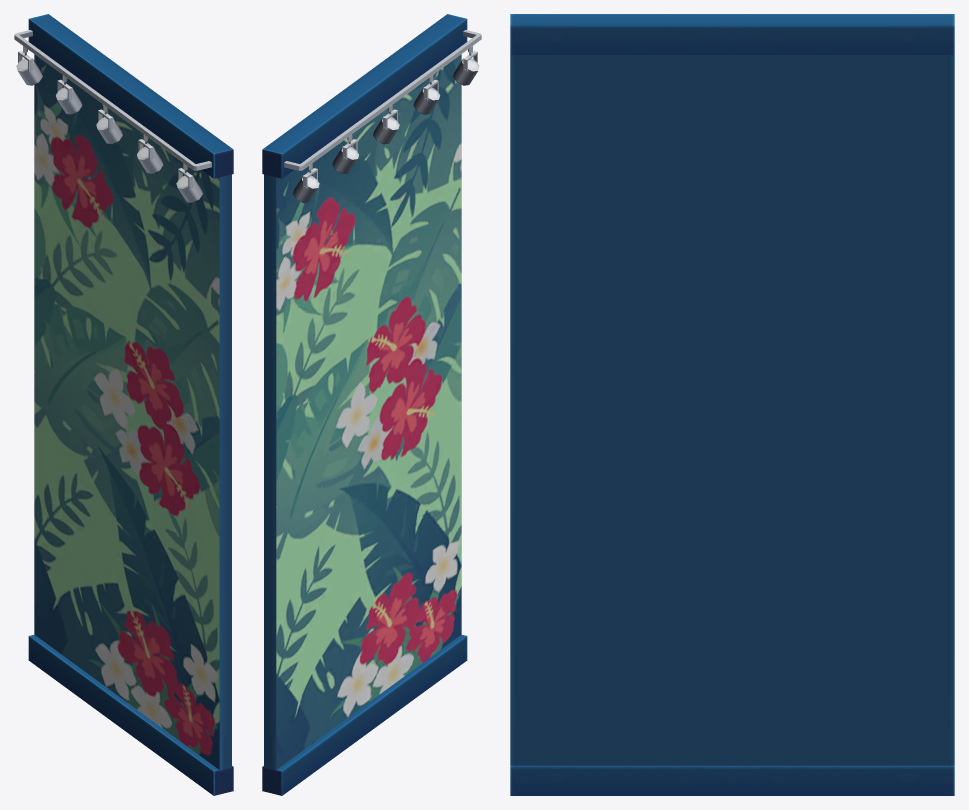
The model's file is my_poolparty_01_b_wall_acc_02.glb.
3 views of the same model, side by side, from view 1: azimuth 30°, elevation 25°; view 2: azimuth 150°, elevation 25°; view 3: azimuth 270°, elevation 25° (orthographic). The views are drawn at different scales.
Parts seen in each view (by area): view 1: my_poolparty_01_b_wall_acc_02; view 2: my_poolparty_01_b_wall_acc_02; view 3: my_poolparty_01_b_wall_acc_02.
Boxes of the visible parts, x1=… form: my_poolparty_01_b_wall_acc_02: x1=14, y1=14, x2=233, y2=795; my_poolparty_01_b_wall_acc_02: x1=262, y1=14, x2=481, y2=795; my_poolparty_01_b_wall_acc_02: x1=510, y1=14, x2=954, y2=795.
Size of the model in its own units: 0.0032 by 0.0452 by 0.0236.
Materials: 1 (1 with a texture image).
